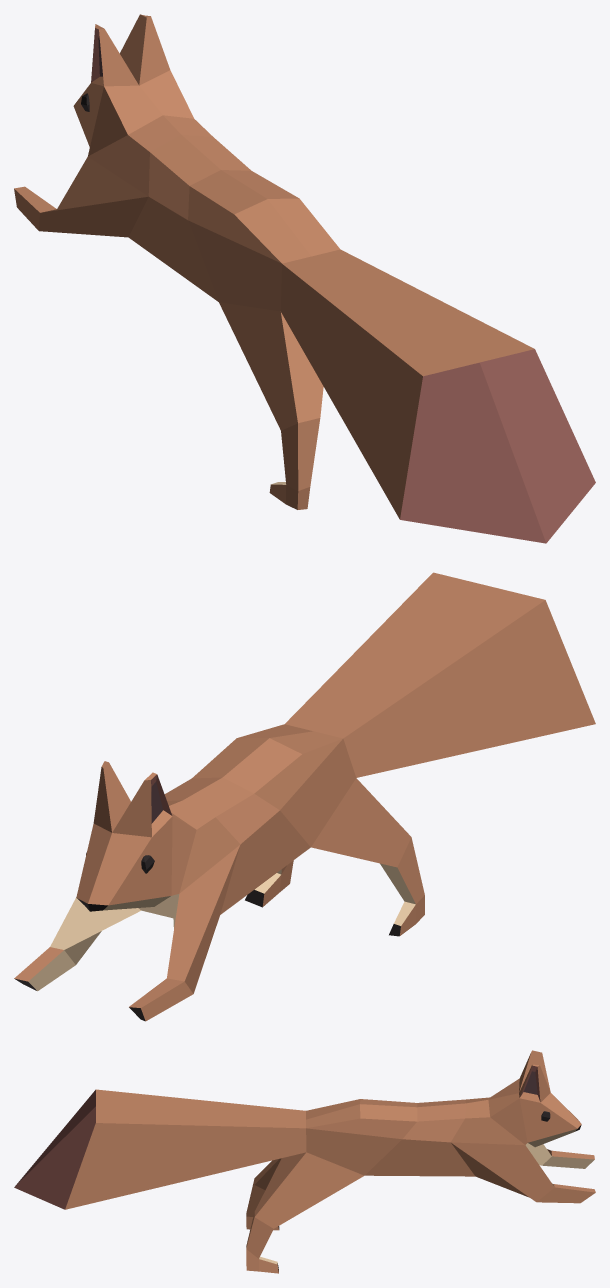
File: squirrel.fbx
3 renders of one model, top to bottom at view 1: azimuth 30°, elevation 25°; view 2: azimuth 150°, elevation 25°; view 3: azimuth 270°, elevation 25°, orthographic. The views are drawn at different scales.
Parts seen in each view (by area): view 1: Squirrel; view 2: Squirrel; view 3: Squirrel.
Boxes of the visible parts, x1,y1,x2,y2 form: Squirrel: (14,14,595,543); Squirrel: (14,572,595,1021); Squirrel: (14,1050,595,1273).
Bounding box in the file's own units: 120 × 189 × 527.
